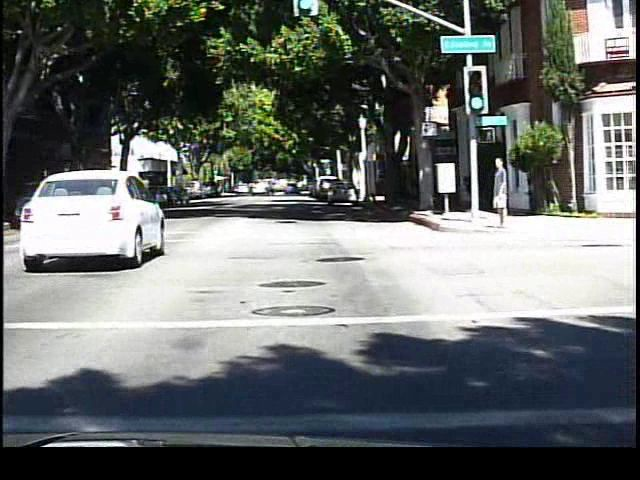person: (487, 154, 513, 231)
